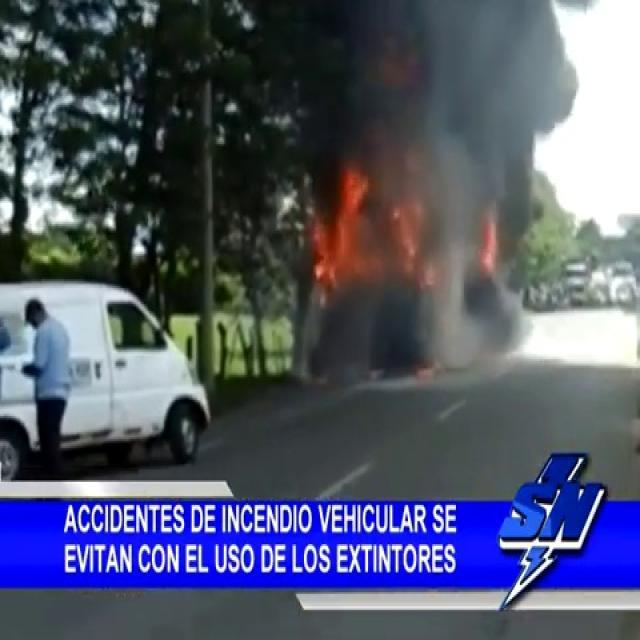Fire: (308, 151, 422, 304)
Smoke: (266, 0, 638, 324)
